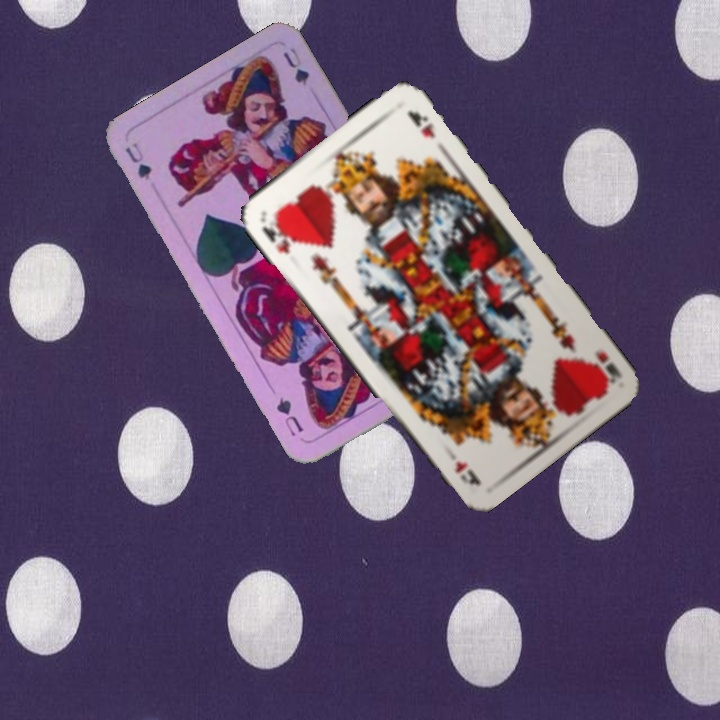GU: (121, 138, 155, 183)
HK: (258, 210, 296, 257), (586, 347, 625, 388)
